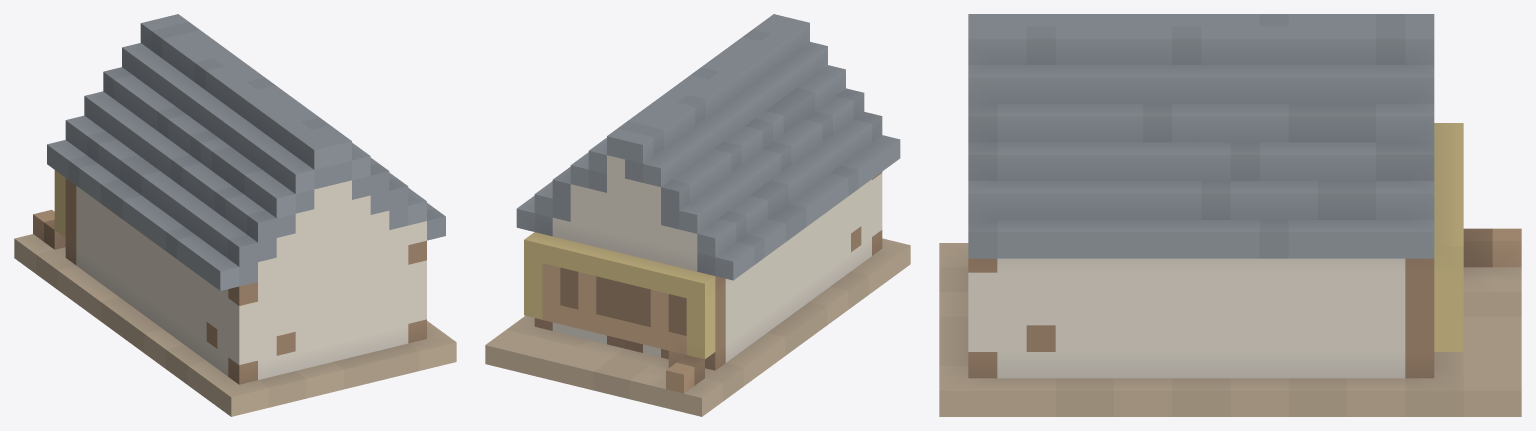
Rendered from lace_maker.lite.glb.
3 renders of one model, left to right at view 1: azimuth 30°, elevation 25°; view 2: azimuth 150°, elevation 25°; view 3: azimuth 270°, elevation 25°, orthographic. The views are drawn at different scales.
Visible parts, largest first — view 1: lace_maker; view 2: lace_maker; view 3: lace_maker.
Part boxes in pixels (bbox=[...]): lace_maker: bbox=[14, 14, 456, 416]; lace_maker: bbox=[485, 14, 910, 416]; lace_maker: bbox=[939, 14, 1521, 416].
Bounding box in the file's own units: 3 × 3 × 5.
